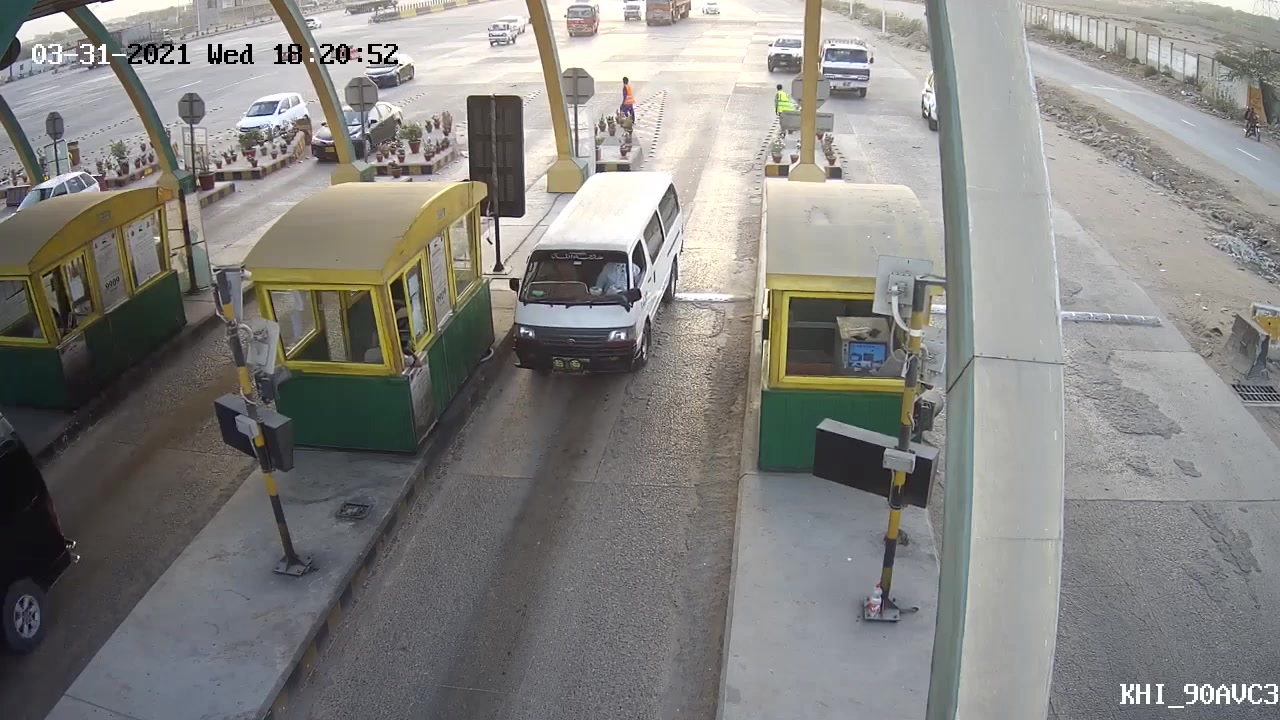F2: (504, 170, 693, 378)
